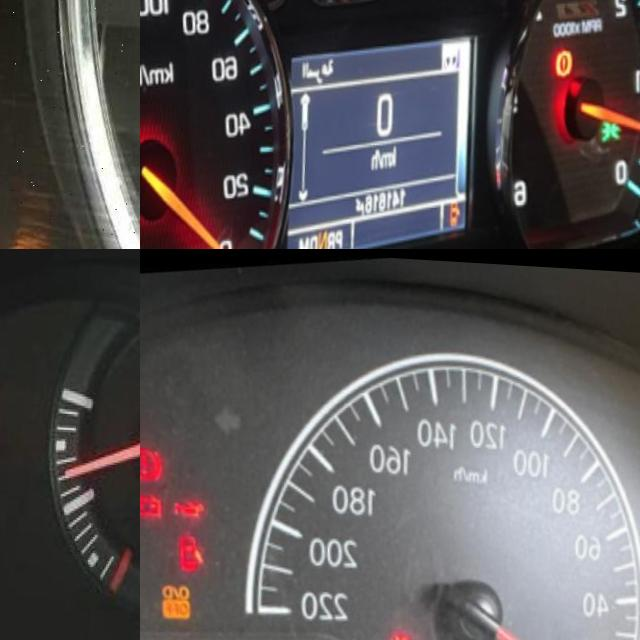Doors: (180, 529, 216, 575)
